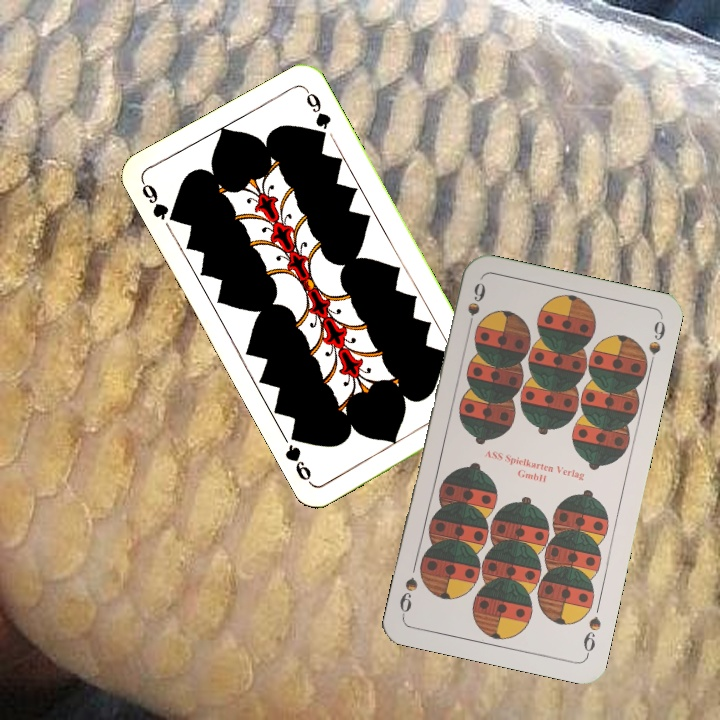G9: (137, 177, 182, 226)
S9: (463, 278, 488, 336), (579, 612, 604, 659)
